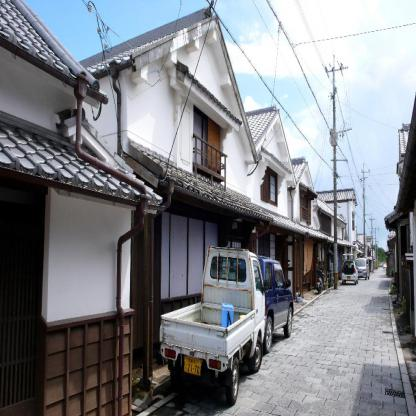Truck: (170, 253, 268, 411)
